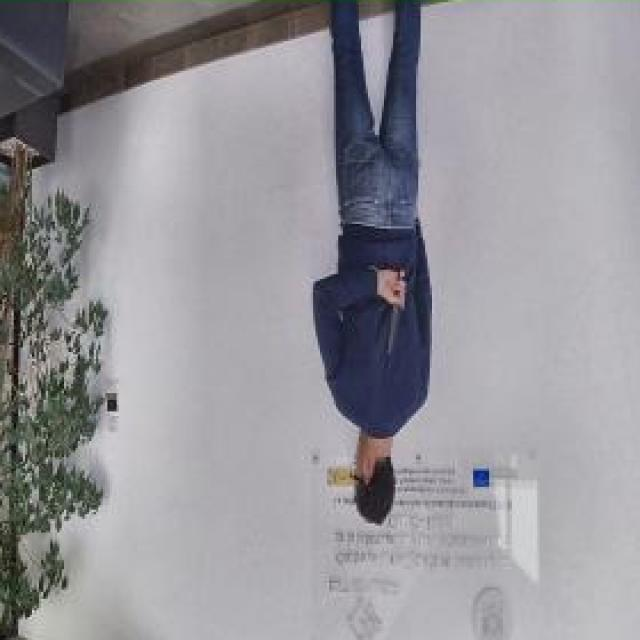knife: (384, 263, 408, 361)
